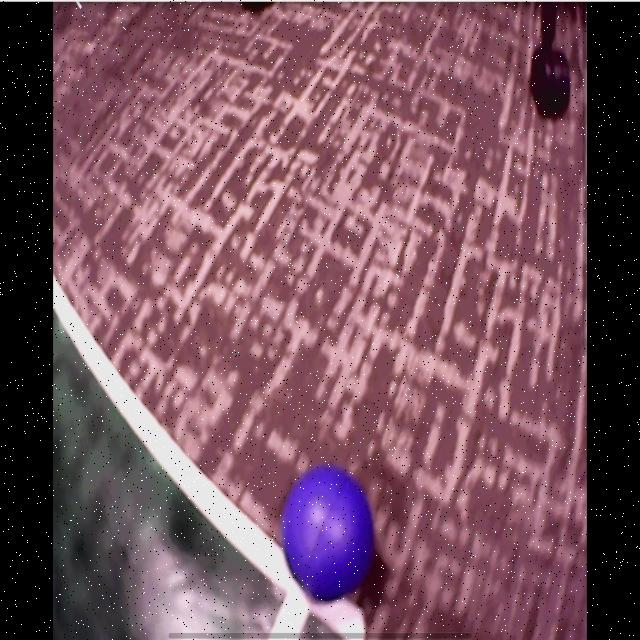ball: (282, 469, 372, 603)
